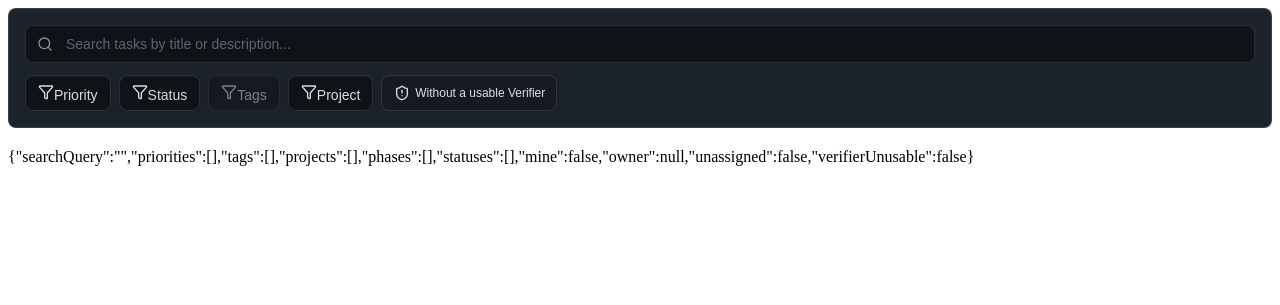
Test case: FilterBar search preserves newer filter selections › debounces rapid typing and cancels pending search when all filters are cleared
Type "first" into the field with placeholder "Search tasks by title or description..." at (640, 44), box top-left (25, 25), bottom-right (1255, 63)
Wait 100 ms
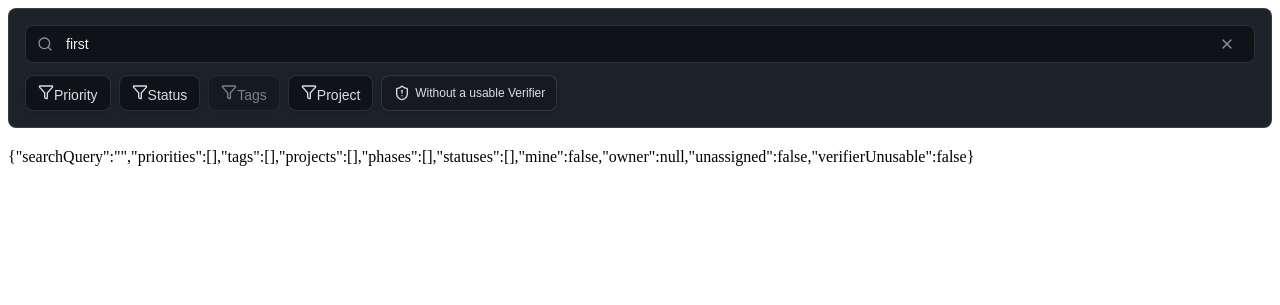
Replace the text in the field with placeholder "Search tasks by title or description..." with "second" at (640, 44), box top-left (25, 25), bottom-right (1255, 63)
Wait 300 ms
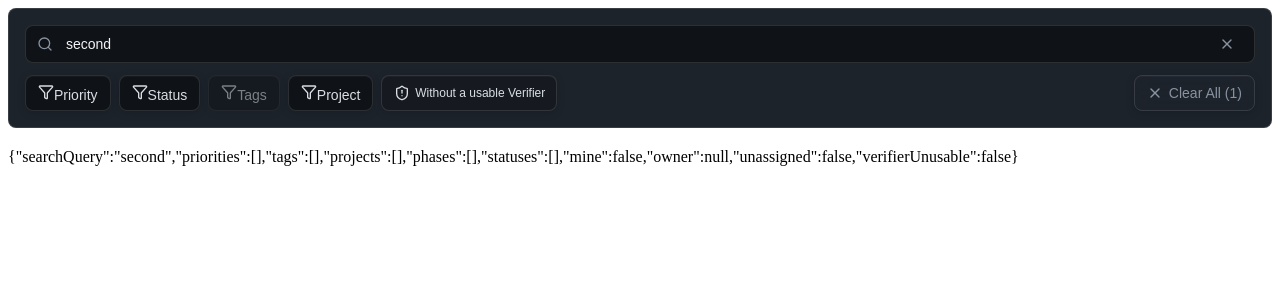
Click the button "Project" at (331, 93), box top-left (288, 75), bottom-right (373, 111)
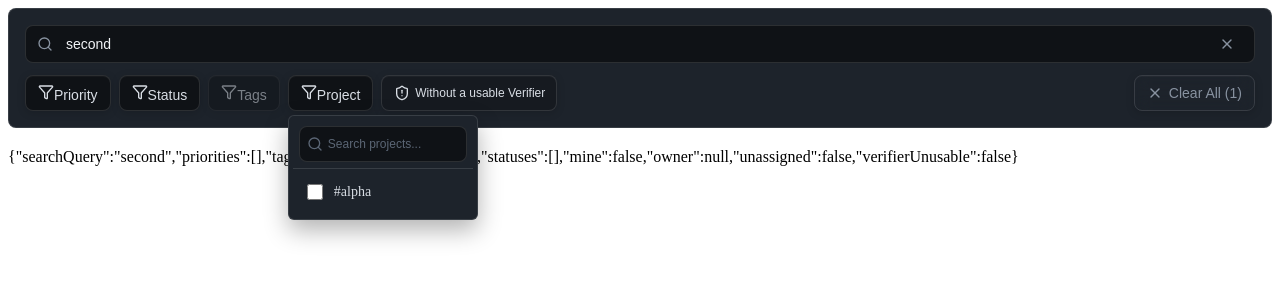
Click the checkbox labelled "#alpha" at (315, 192), box top-left (307, 184), bottom-right (323, 200)
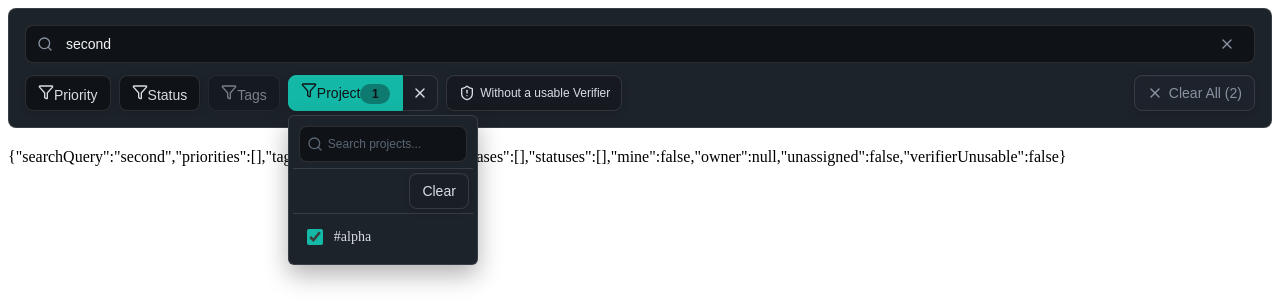
Replace the text in the field with placeholder "Search tasks by title or description..." with "stale" at (640, 44), box top-left (25, 25), bottom-right (1255, 63)
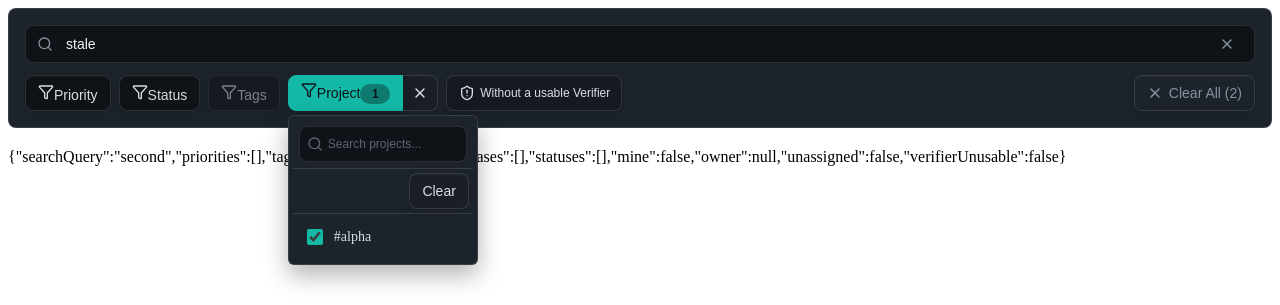
Click the button with aria-label "Clear all filters" at (1194, 93), box top-left (1134, 75), bottom-right (1255, 111)
Wait 300 ms
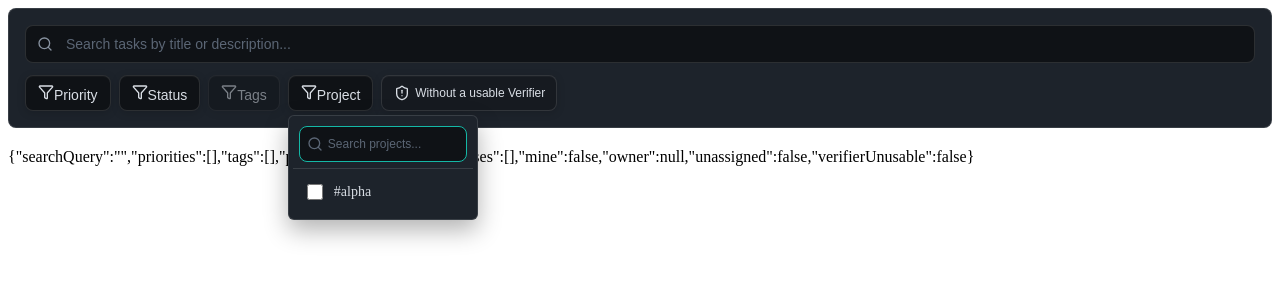
Result: the field with placeholder "Search tasks by title or description..." is empty at top-left (25, 25), bottom-right (1255, 63)
